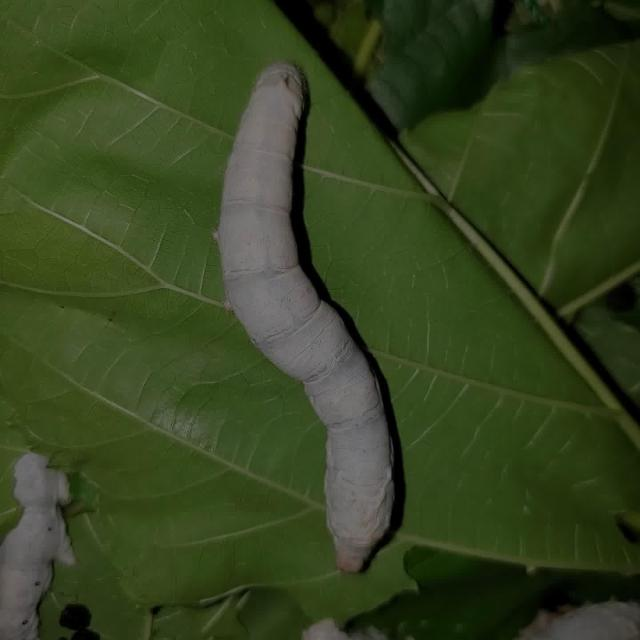Healthy: (169, 48, 420, 604)
